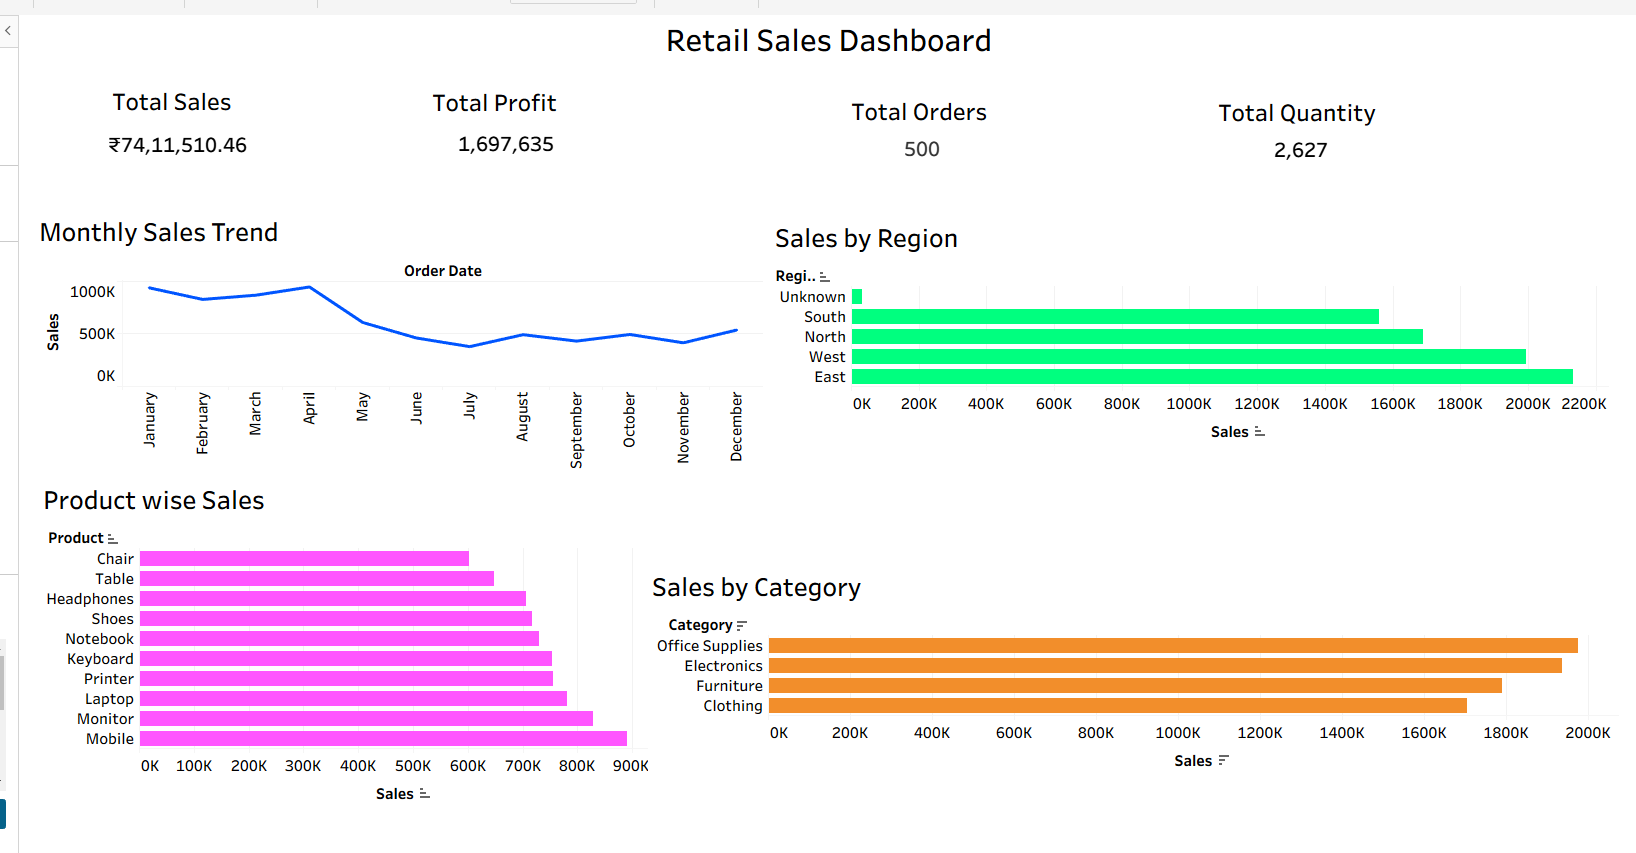

This screenshot's page, from the dashboard's own definition file:
{"tool":"tableau","page":{"name":"Dashboard 1","canvas":[1620,860],"ordinal":0},"visuals":[{"type":"title","box":[8,8,1604,49]},{"type":"text","box":[90,79,126,32]},{"type":"text","box":[410,80,132,32]},{"type":"text","box":[829,90,169,30]},{"type":"text","box":[1196,90,165,32]},{"type":"worksheet","title":"Sheet 2","mark":"Automatic","box":[419,124,167,80]},{"type":"worksheet","title":"Sheet 1","mark":"Automatic","box":[72,125,172,53]},{"type":"worksheet","title":"Sheet 3","mark":"Automatic","box":[865,129,67,56]},{"type":"worksheet","title":"Sheet 4","mark":"Automatic","box":[1233,130,121,58]},{"type":"worksheet","title":"Sheet 7","mark":"Automatic","rows":["Sales"],"cols":["Order_Date"],"box":[16,204,728,276]},{"type":"worksheet","title":"Sheet 6","mark":"Automatic","rows":["Region"],"cols":["Sales"],"box":[752,210,838,284]},{"type":"worksheet","title":"Sheet 8","mark":"Automatic","rows":["Product"],"cols":["Sales"],"box":[20,472,612,359]},{"type":"worksheet","title":"Sheet 5","mark":"Automatic","rows":["Category"],"cols":["Sales"],"box":[629,559,971,284]}]}

Visuals, with their boxes in screenshot pixels (x1, y1, x2, y2), scaled from the page's 1620x860 canvas onto the 1636x853 screenshot:
title: 8, 8, 1628, 57
text: 91, 78, 218, 110
text: 414, 79, 547, 111
text: 837, 89, 1008, 119
text: 1208, 89, 1374, 121
"Sheet 2" worksheet: 423, 123, 592, 202
"Sheet 1" worksheet: 73, 124, 246, 177
"Sheet 3" worksheet: 874, 128, 941, 183
"Sheet 4" worksheet: 1245, 129, 1367, 186
"Sheet 7" worksheet: 16, 202, 751, 476
"Sheet 6" worksheet: 759, 208, 1606, 490
"Sheet 8" worksheet: 20, 468, 638, 824
"Sheet 5" worksheet: 635, 554, 1616, 836
